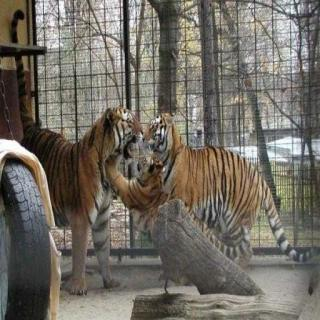Tiger: (138, 115, 306, 259), (45, 96, 131, 269)
